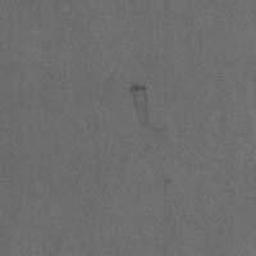Oil spot: (128, 82, 151, 132)
